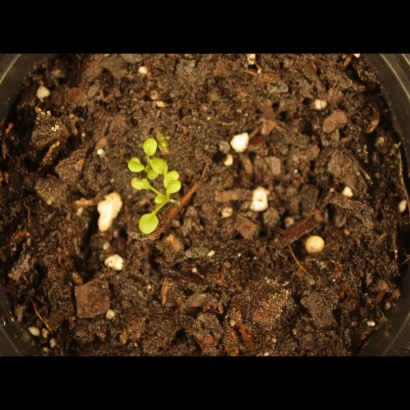leaf: (137, 211, 162, 239), (139, 136, 162, 159), (126, 154, 149, 177), (128, 176, 151, 199), (148, 154, 171, 177), (161, 165, 184, 188), (164, 179, 187, 202), (153, 193, 176, 216)
